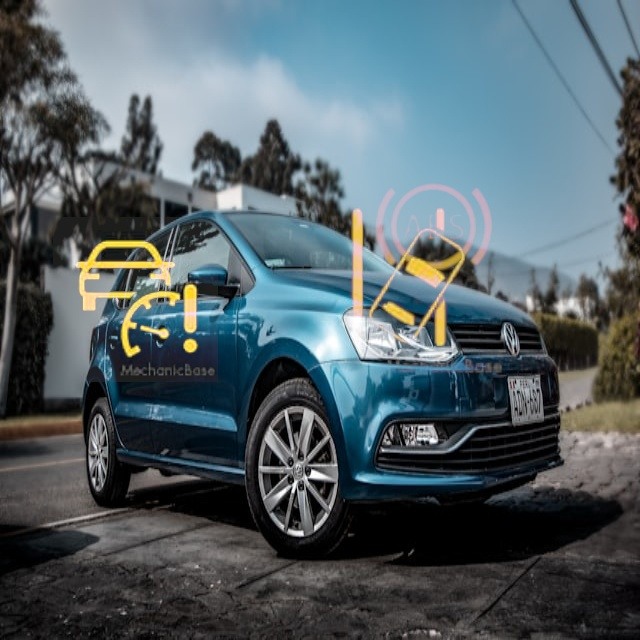symbol: (306, 179, 510, 383), (349, 144, 517, 312), (53, 217, 218, 382)
